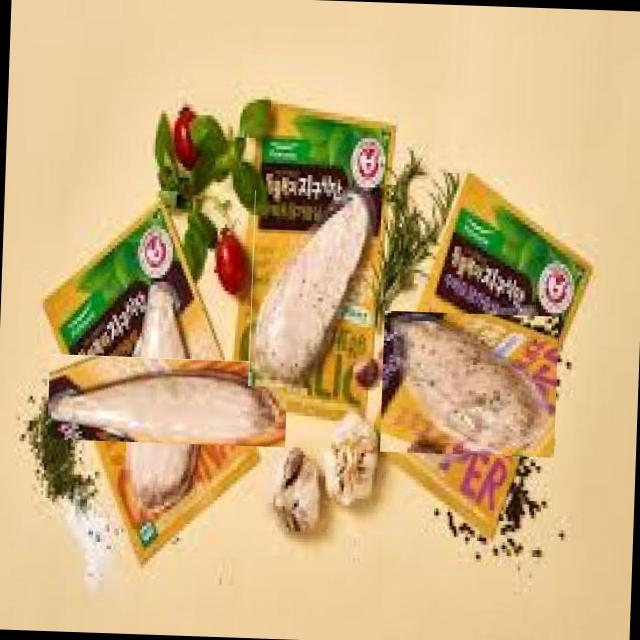chicken: (84, 317, 251, 484), (388, 302, 551, 465), (248, 190, 376, 390)
